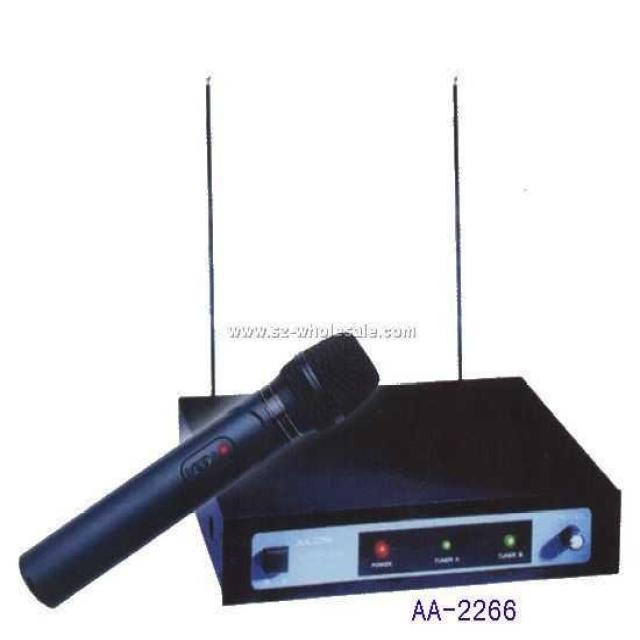microphone: (22, 330, 364, 604)
